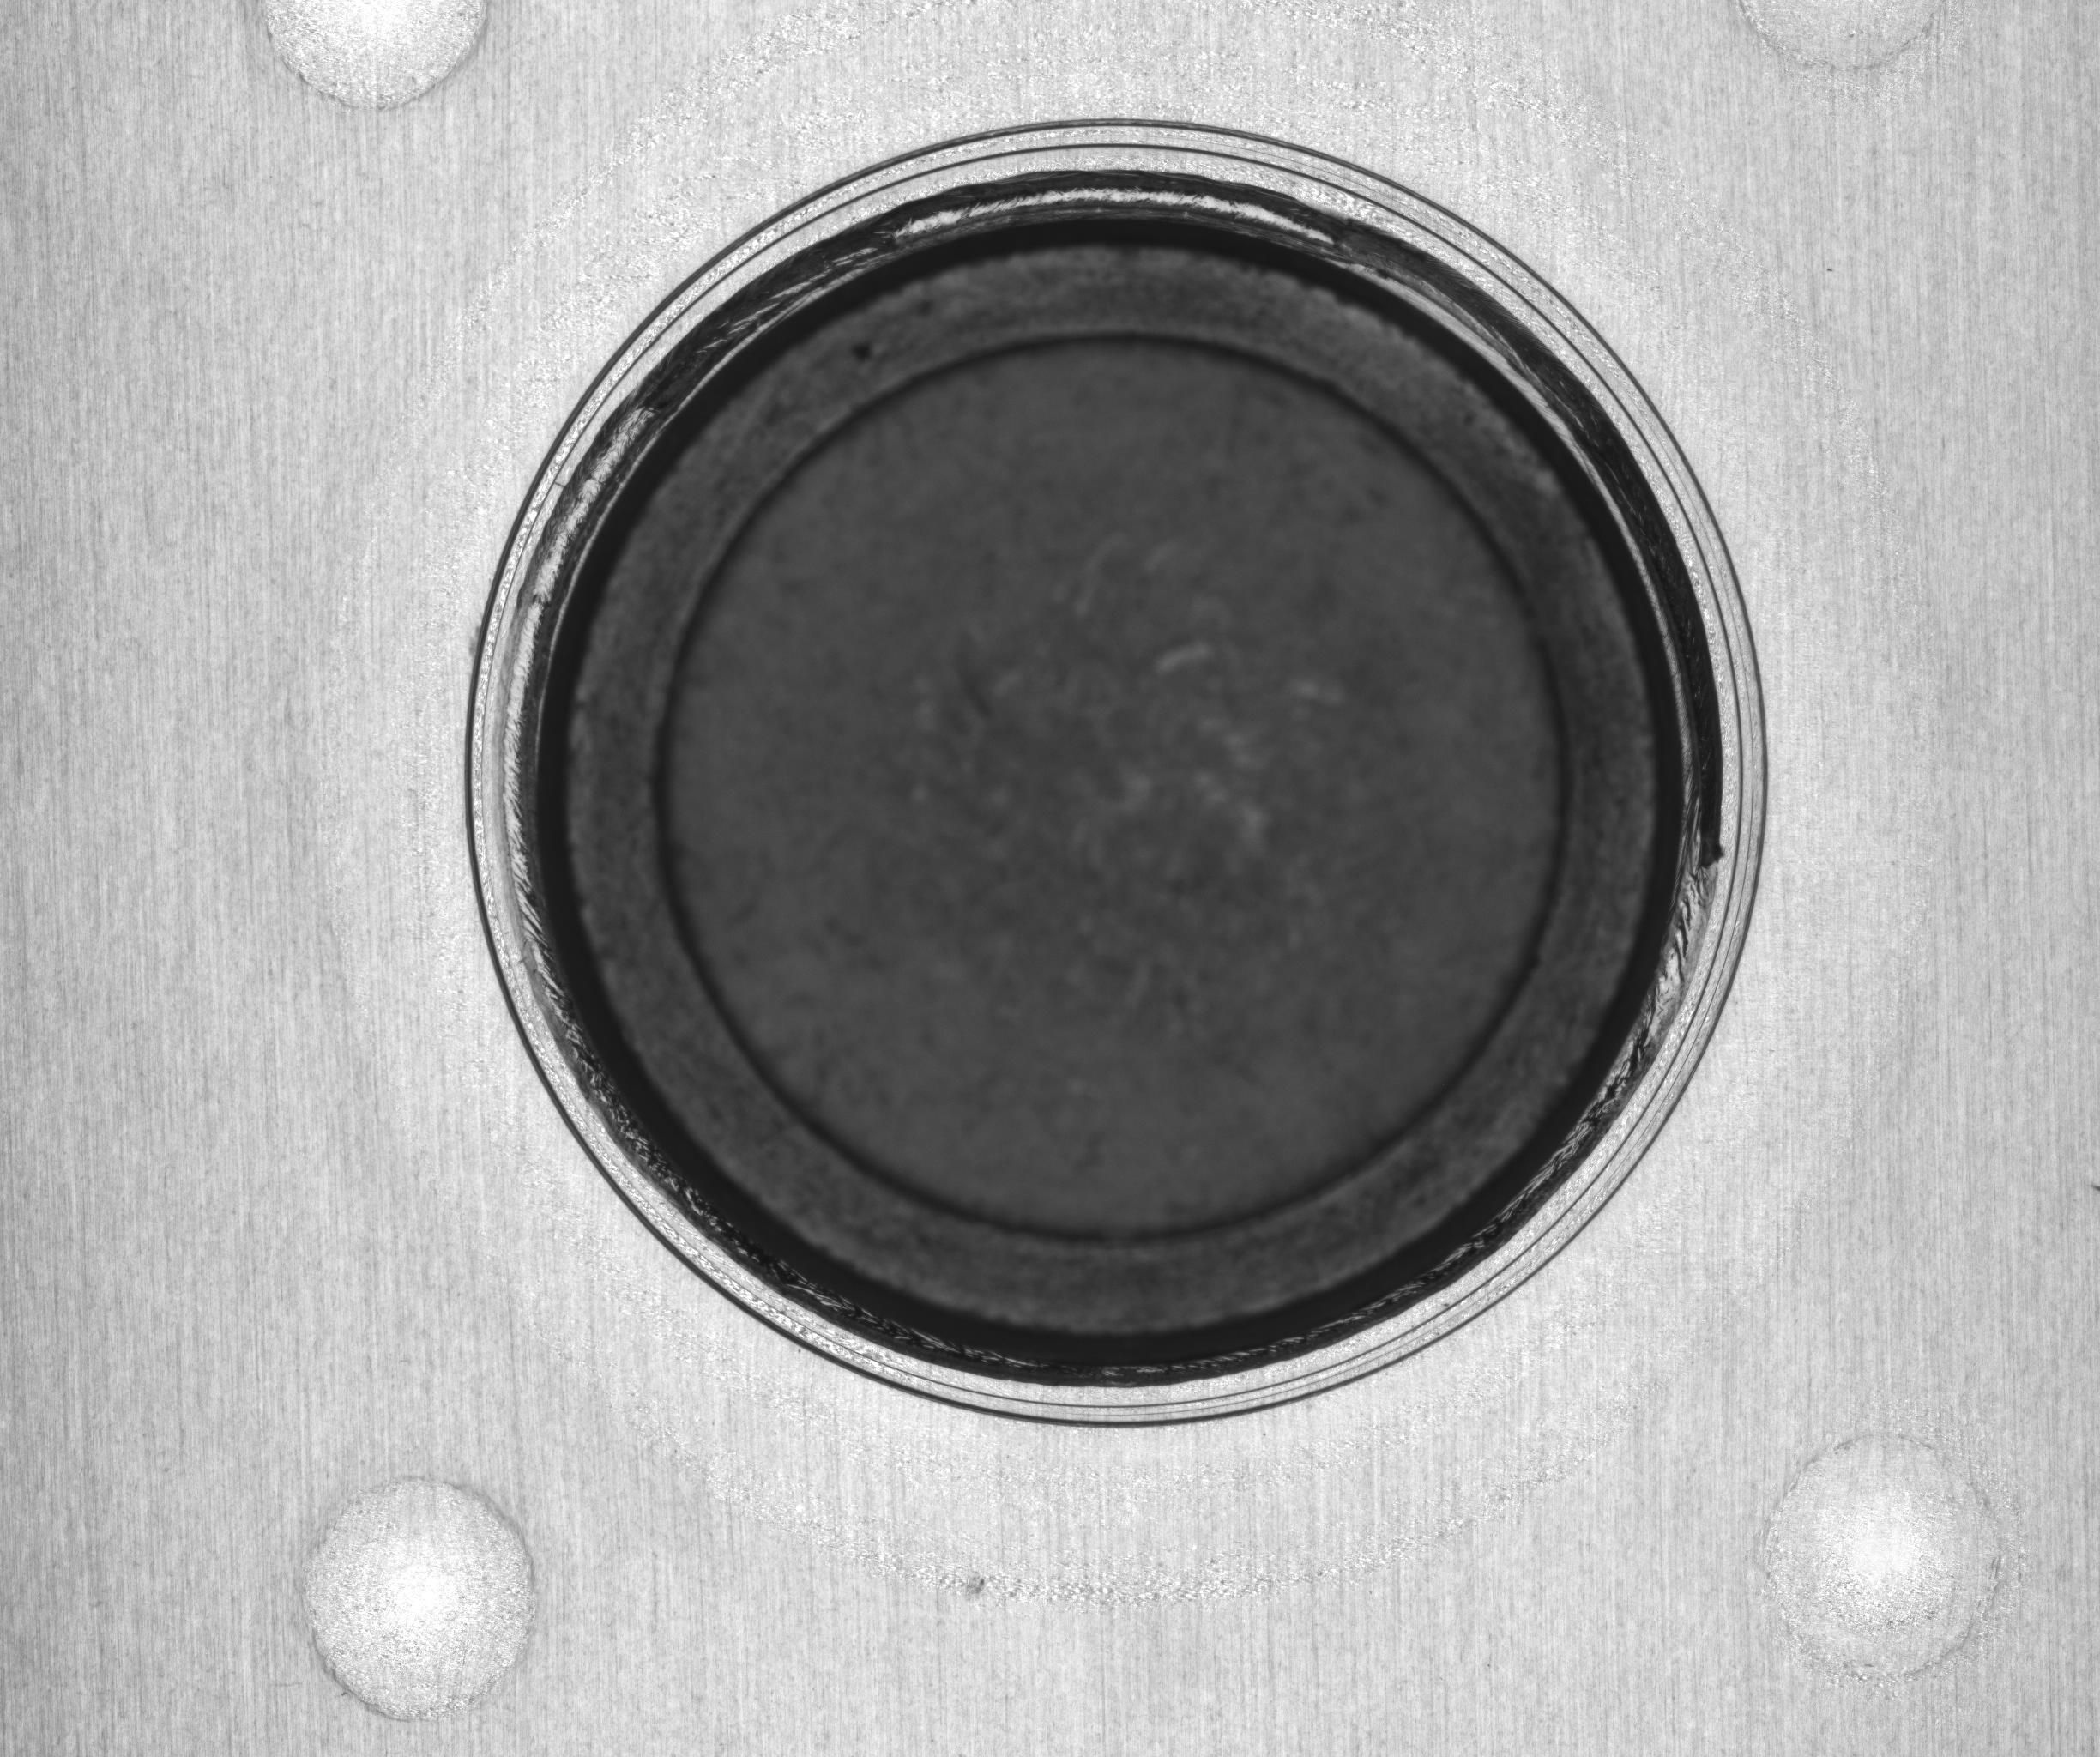coveriswrong: (541, 222, 1701, 1363)
